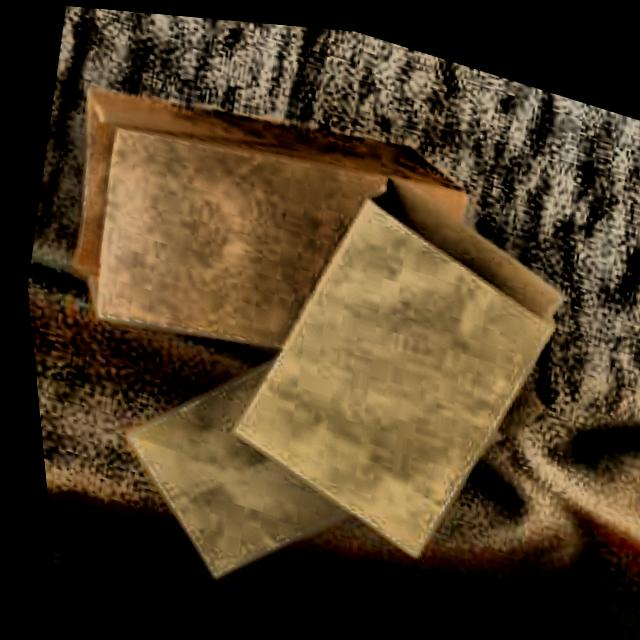Paper-bag: (11, 26, 520, 444), (185, 119, 609, 597), (79, 242, 529, 640)
